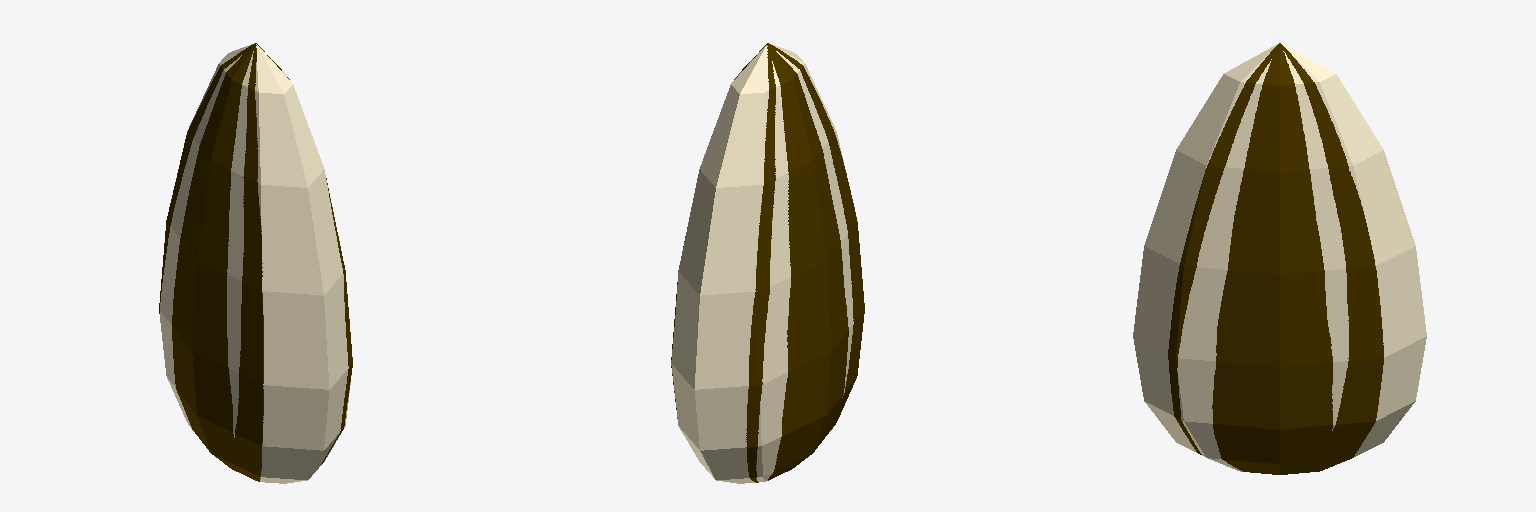
3 views of the same model, side by side, from view 1: azimuth 30°, elevation 25°; view 2: azimuth 150°, elevation 25°; view 3: azimuth 270°, elevation 25° (orthographic).
Parts seen in each view (by area): view 1: Sphere_Sphere.001; view 2: Sphere_Sphere.001; view 3: Sphere_Sphere.001.
Boxes of the visible parts, x1,y1,x2,y2 form: Sphere_Sphere.001: [159, 43, 352, 483]; Sphere_Sphere.001: [671, 43, 864, 483]; Sphere_Sphere.001: [1133, 43, 1426, 474].
Bounding box in the file's own units: 2.5 × 8 × 5.
Materials: 1 (1 with a texture image).